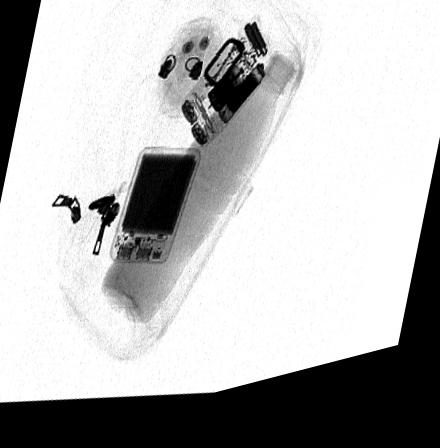Powerbank: (106, 154, 199, 273)
